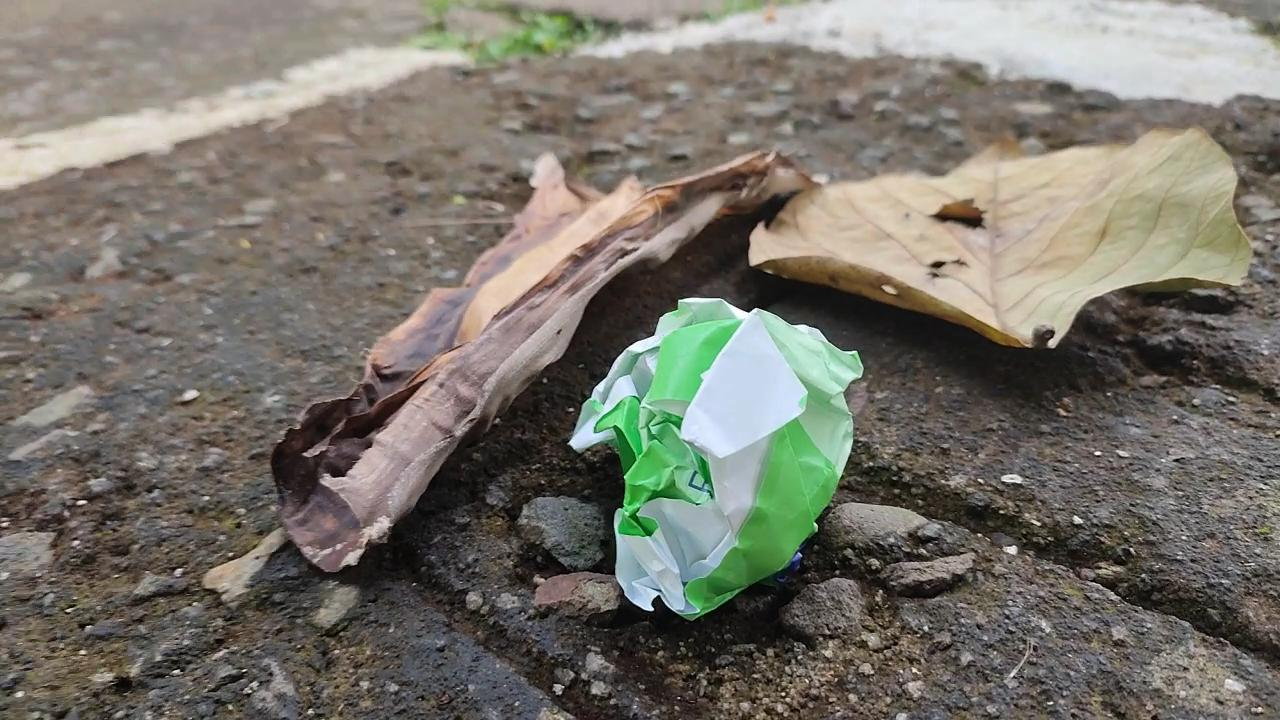Paper: (552, 283, 862, 636)
